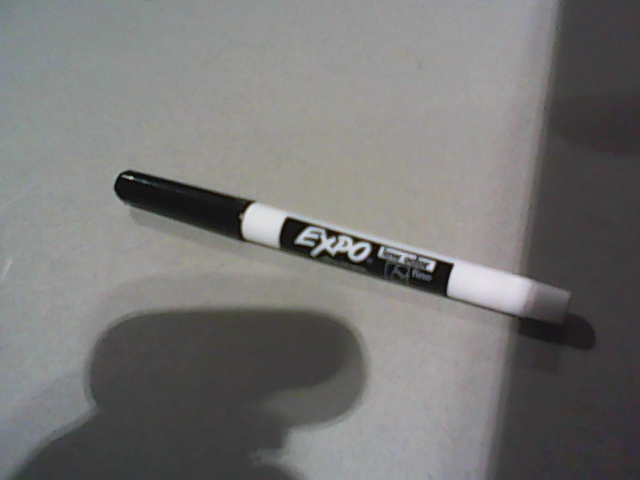marker: (114, 169, 572, 326)
